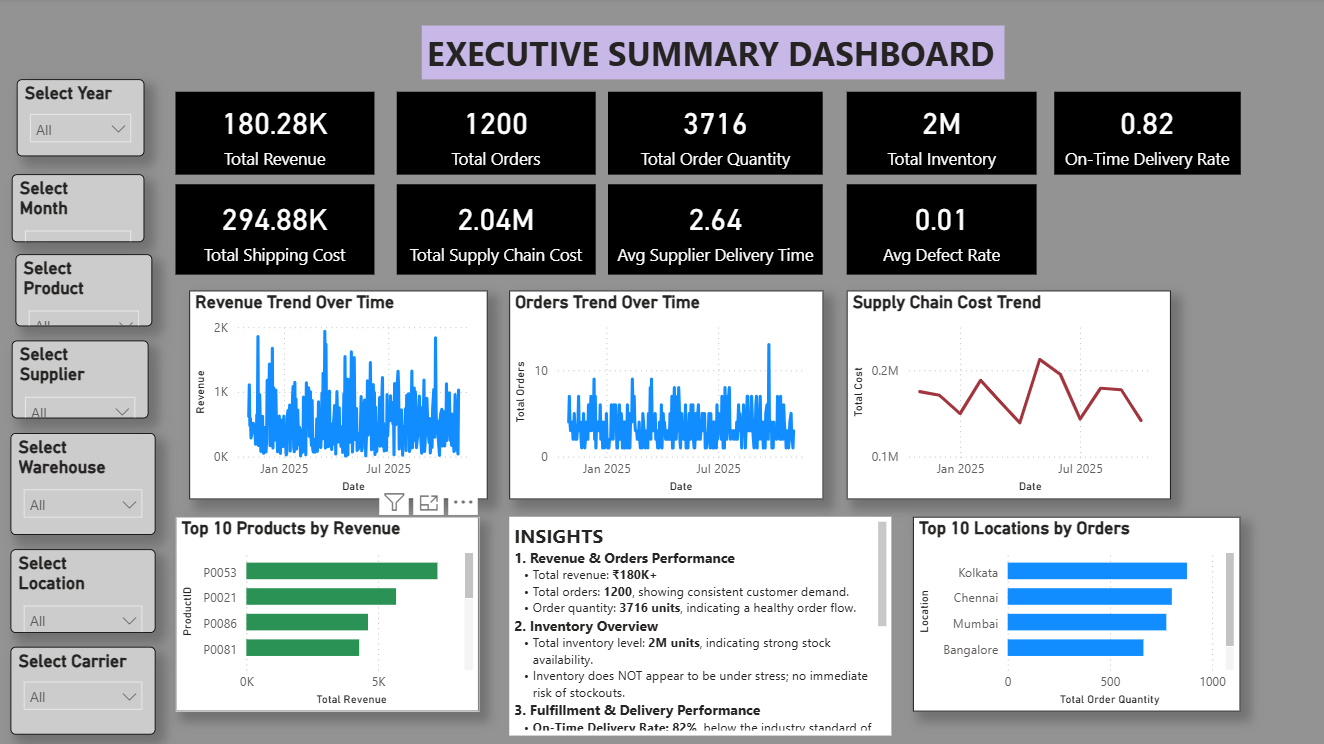

This screenshot's page, from the dashboard's own definition file:
{"tool":"powerbi","page":{"name":"Page 1","canvas":[1280,720],"ordinal":0},"visuals":[{"type":"card","fields":{"Values":["DateTable.Total Revenue"]},"box":[171.3,90.5,191.8,79.6],"z":0},{"type":"card","fields":{"Values":["DateTable.Total Orders"]},"box":[384.9,90.5,191.8,79.6],"z":1},{"type":"card","fields":{"Values":["DateTable.Total Order Quantity"]},"box":[588.7,90.5,207.5,79.6],"z":2},{"type":"card","fields":{"Values":["DateTable.Total Inventory"]},"box":[819.2,90.5,183.4,79.6],"z":3},{"type":"card","fields":{"Values":["DateTable.On-Time Delivery Rate"]},"box":[1019.4,90.5,179.8,79.6],"z":4},{"type":"card","fields":{"Values":["DateTable.Total Shipping Cost"]},"box":[171.3,179.8,191.8,86.9],"z":5},{"type":"card","fields":{"Values":["DateTable.Total Supply Chain Cost"]},"box":[384.9,179.8,191.8,86.9],"z":6},{"type":"card","fields":{"Values":["DateTable.Avg Supplier Delivery Time"]},"box":[588.7,179.8,207.5,86.9],"z":7},{"type":"card","fields":{"Values":["DateTable.Avg Defect Rate"]},"box":[819.2,179.8,183.4,86.9],"z":8},{"type":"lineChart","title":"Revenue Trend Over Time","fields":{"Category":["DateTable.Date"],"Y":["DateTable.Total Revenue"]},"box":[184.6,282.3,288.3,201.5],"z":9},{"type":"lineChart","title":"Orders Trend Over Time","fields":{"Category":["DateTable.Date"],"Y":["DateTable.Total Orders"]},"box":[493.4,282.3,302.8,201.5],"z":10},{"type":"lineChart","title":"Supply Chain Cost Trend","fields":{"Category":["DateTable.Date"],"Y":["DateTable.Total Supply Chain Cost"]},"box":[819.2,282.3,312.5,201.5],"z":11},{"type":"clusteredBarChart","title":"Top 10 Products by Revenue","fields":{"Y":["DateTable.Total Revenue"],"Category":["products_table.ProductID"]},"box":[171.3,500.7,293.2,188.2],"z":12},{"type":"clusteredBarChart","title":"Top 10 Locations by Orders","fields":{"Category":["products_table.Location"],"Y":["DateTable.Total Order Quantity"]},"box":[883.1,500.7,316.1,188.2],"z":13},{"type":"slicer","title":"Select Year","fields":{"Values":["DateTable.Year"]},"box":[17.8,78.2,123.5,74.1],"z":14},{"type":"slicer","title":"Select Month","fields":{"Values":["DateTable.Month"]},"box":[13.7,170.2,127.6,65.9],"z":15},{"type":"slicer","title":"Select Product","fields":{"Values":["products_table.ProductID"]},"box":[16.5,247,131.7,70],"z":16},{"type":"slicer","title":"Select Supplier","fields":{"Values":["suppliers_table.Suppliers name "]},"box":[13.7,330.7,131.7,75.5],"z":17},{"type":"slicer","title":"Select Warehouse","fields":{"Values":["inventory_table.WarehouseID"]},"box":[12.3,419.9,140,98.8],"z":18},{"type":"slicer","title":"Select Location","fields":{"Values":["products_table.Location"]},"box":[12.3,532.4,140,81],"z":19},{"type":"slicer","title":"Select Carrier","fields":{"Values":["shipping_table.Carrier"]},"box":[12.3,625.7,140,85.1],"z":20},{"type":"textbox","box":[408.9,26.1,562.6,52.1],"z":22},{"type":"textbox","box":[493.4,500.7,369.2,211.1],"z":23}]}

Visuals, with their boxes in screenshot pixels (x1, y1, x2, y2), scaled from the page's 1280x720 canvas onto the 1324x744 screenshot:
card - DateTable.Total Revenue: crop(177, 94, 376, 176)
card - DateTable.Total Orders: crop(398, 94, 597, 176)
card - DateTable.Total Order Quantity: crop(609, 94, 824, 176)
card - DateTable.Total Inventory: crop(847, 94, 1037, 176)
card - DateTable.On-Time Delivery Rate: crop(1054, 94, 1240, 176)
card - DateTable.Total Shipping Cost: crop(177, 186, 376, 276)
card - DateTable.Total Supply Chain Cost: crop(398, 186, 597, 276)
card - DateTable.Avg Supplier Delivery Time: crop(609, 186, 824, 276)
card - DateTable.Avg Defect Rate: crop(847, 186, 1037, 276)
"Revenue Trend Over Time" lineChart: crop(191, 292, 489, 500)
"Orders Trend Over Time" lineChart: crop(510, 292, 824, 500)
"Supply Chain Cost Trend" lineChart: crop(847, 292, 1171, 500)
"Top 10 Products by Revenue" clusteredBarChart: crop(177, 517, 480, 712)
"Top 10 Locations by Orders" clusteredBarChart: crop(913, 517, 1240, 712)
"Select Year" slicer: crop(18, 81, 146, 157)
"Select Month" slicer: crop(14, 176, 146, 244)
"Select Product" slicer: crop(17, 255, 153, 328)
"Select Supplier" slicer: crop(14, 342, 150, 420)
"Select Warehouse" slicer: crop(13, 434, 158, 536)
"Select Location" slicer: crop(13, 550, 158, 634)
"Select Carrier" slicer: crop(13, 647, 158, 734)
textbox: crop(423, 27, 1005, 81)
textbox: crop(510, 517, 892, 736)
